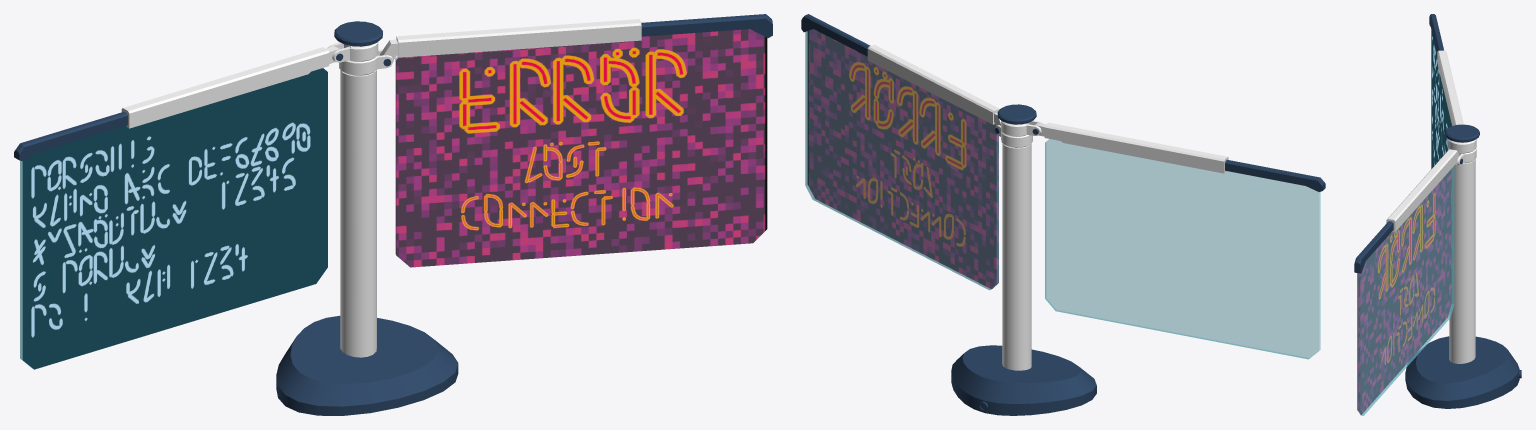
File: Misc_CyberScreen_A.glb
3 views of the same model, side by side, from view 1: azimuth 30°, elevation 25°; view 2: azimuth 150°, elevation 25°; view 3: azimuth 270°, elevation 25° (orthographic). The views are drawn at different scales.
Parts seen in each view (by area): view 1: Misc_CyberScreen_A.001; view 2: Misc_CyberScreen_A.001; view 3: Misc_CyberScreen_A.001.
Boxes of the visible parts, <box> form: Misc_CyberScreen_A.001: <box>14,14,772,415</box>; Misc_CyberScreen_A.001: <box>801,14,1325,415</box>; Misc_CyberScreen_A.001: <box>1354,14,1521,415</box>.
Size of the model in its own units: 0.7952 by 0.3747 by 0.2287.
Materials: 5 (1 with a texture image).
